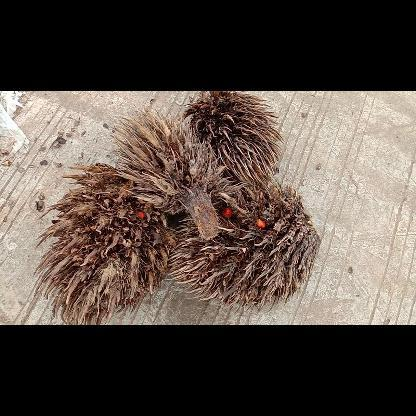Janjang kosong: (34, 162, 174, 324), (166, 186, 320, 324), (106, 104, 226, 240), (182, 91, 284, 187)
